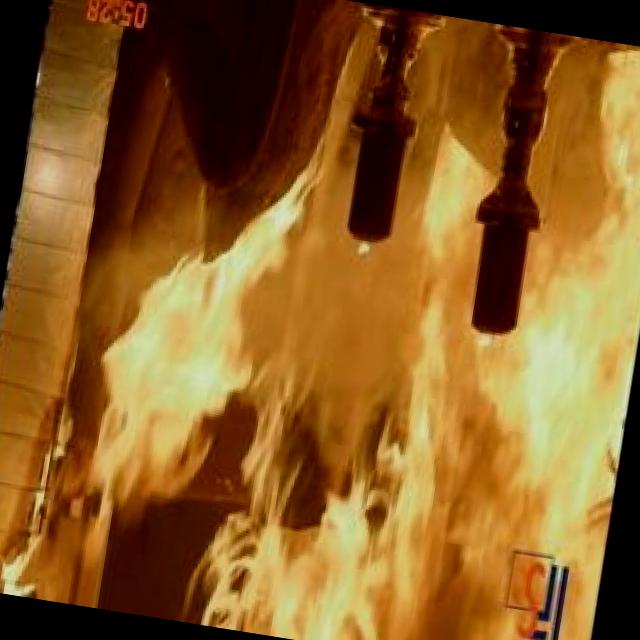fire: (62, 51, 640, 640)
